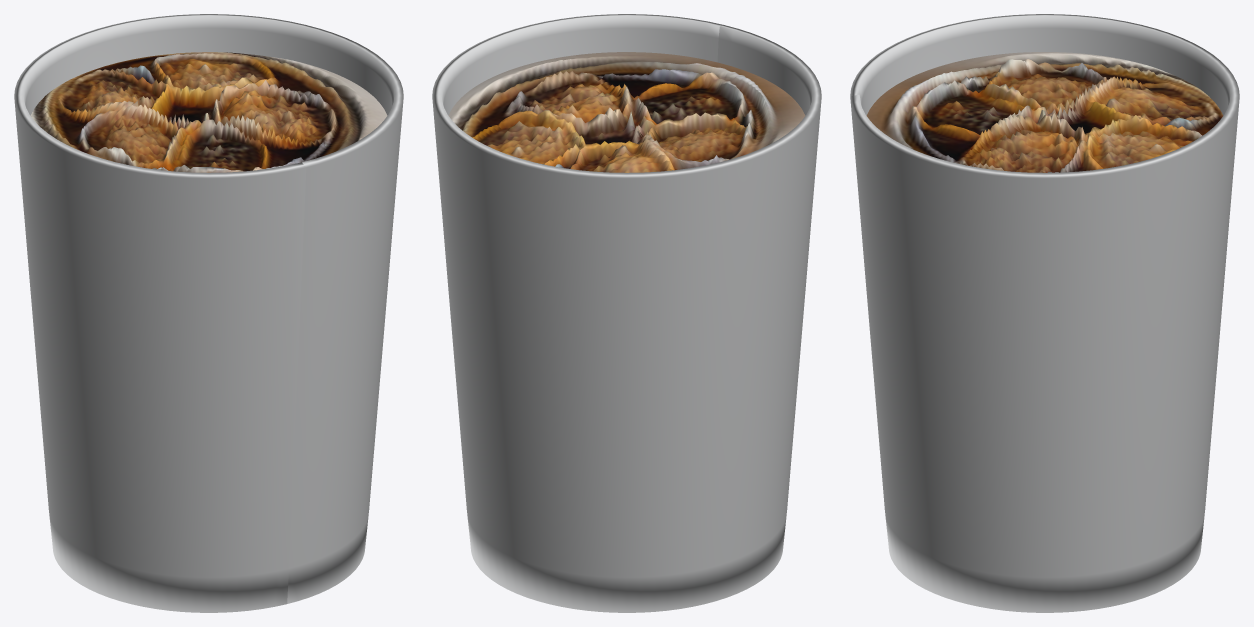
File: cold-brew.glb
The picture shows the model from 3 angles, left to right: view 1: azimuth 30°, elevation 25°; view 2: azimuth 150°, elevation 25°; view 3: azimuth 270°, elevation 25°; orthographic projection.
Visible parts, largest first — view 1: CrystalTumblerGlass, PhotoSculptedIceCrown; view 2: CrystalTumblerGlass, PhotoSculptedIceCrown; view 3: CrystalTumblerGlass, PhotoSculptedIceCrown.
Boxes of the visible parts, x1=… form: CrystalTumblerGlass: x1=14, y1=14, x2=403, y2=612; PhotoSculptedIceCrown: x1=30, y1=52, x2=387, y2=172; CrystalTumblerGlass: x1=432, y1=14, x2=821, y2=612; PhotoSculptedIceCrown: x1=448, y1=52, x2=805, y2=172; CrystalTumblerGlass: x1=850, y1=14, x2=1239, y2=612; PhotoSculptedIceCrown: x1=866, y1=52, x2=1223, y2=172.
Bounding box in the file's own units: 1.52 × 1.95 × 1.52.
Materials: 3 (2 with a texture image).
